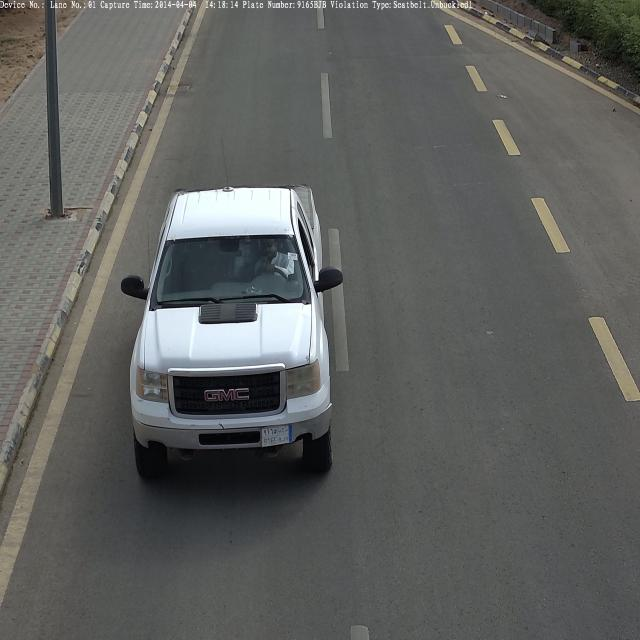person_without_seatbelt: (253, 237, 292, 280)
